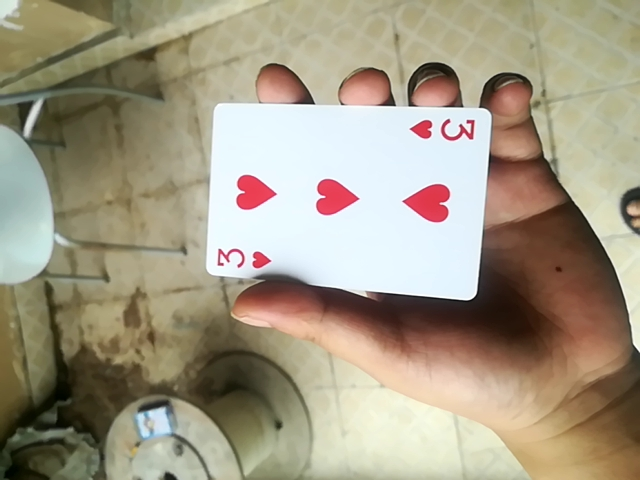hx 3: (200, 102, 494, 306)
